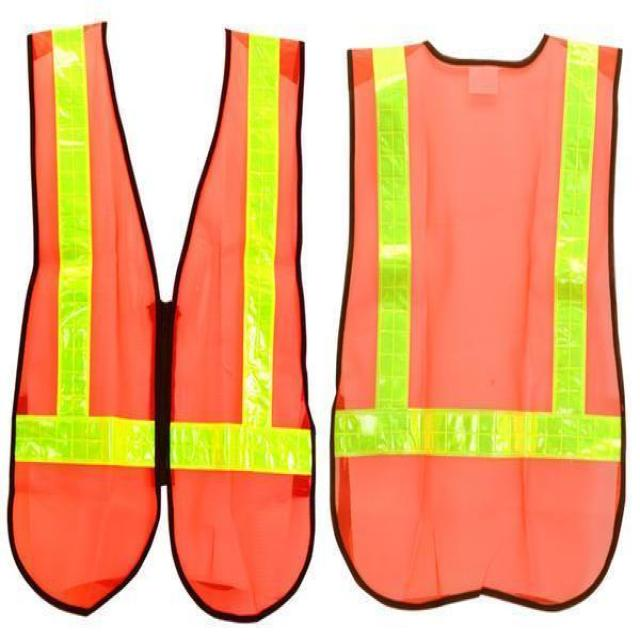Vest: (6, 18, 319, 622), (328, 38, 628, 614)
